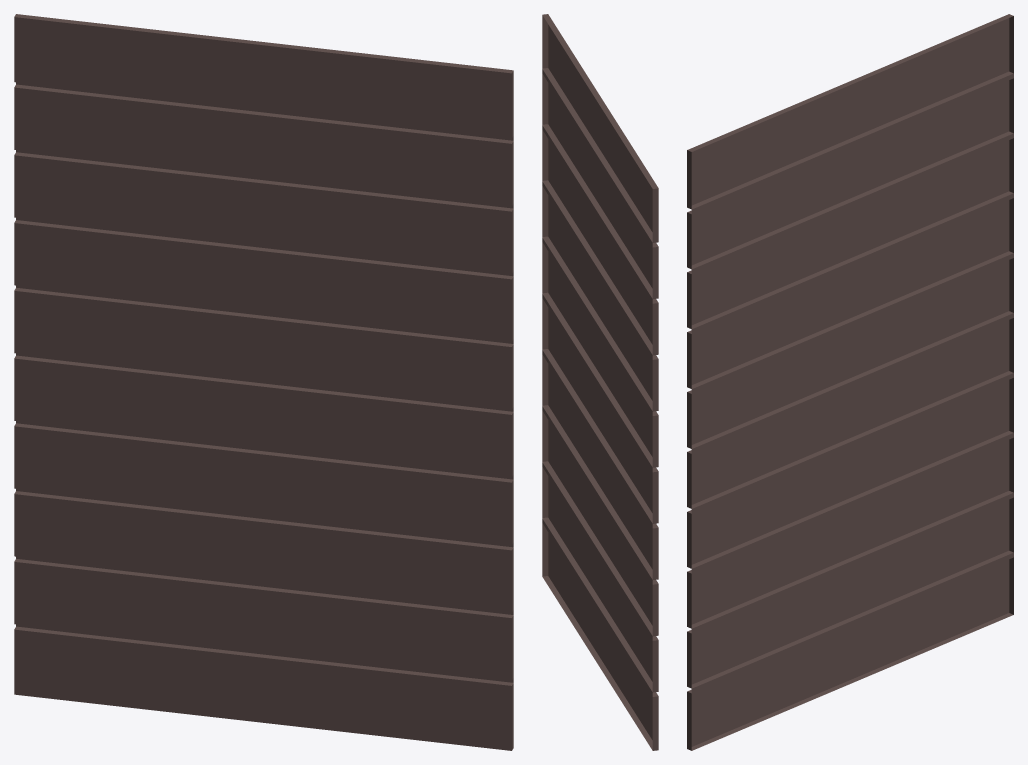
Rendered from Module_Building_Wall_Corner.fbx.
The picture shows the model from 3 angles, left to right: view 1: azimuth 30°, elevation 25°; view 2: azimuth 150°, elevation 25°; view 3: azimuth 270°, elevation 25°; orthographic projection. The views are drawn at different scales.
Visible parts, largest first — view 1: Module_Building_Wall_Corner; view 2: Module_Building_Wall_Corner; view 3: Module_Building_Wall_Corner.
Part boxes in pixels (x1,y1,x2,y2): Module_Building_Wall_Corner: [14, 14, 513, 750]; Module_Building_Wall_Corner: [542, 14, 658, 750]; Module_Building_Wall_Corner: [687, 14, 1013, 750].
Size of the model in its own units: 98.88 by 200 by 98.88.
